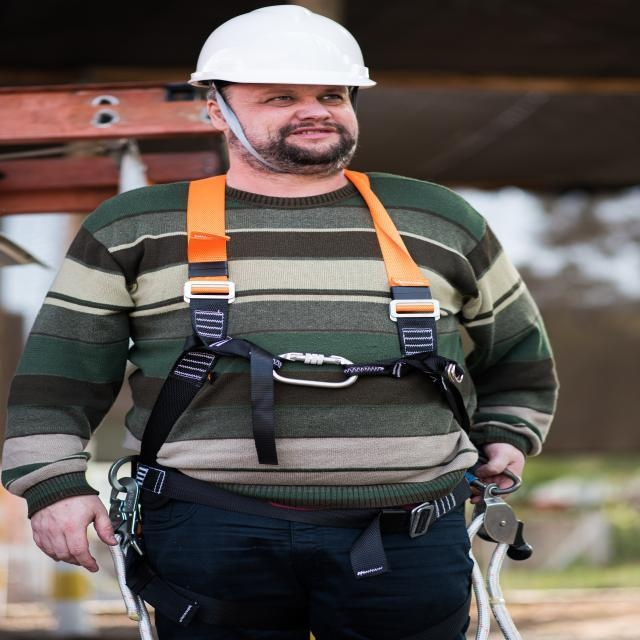Arnes_seguridad: (98, 165, 533, 640)
